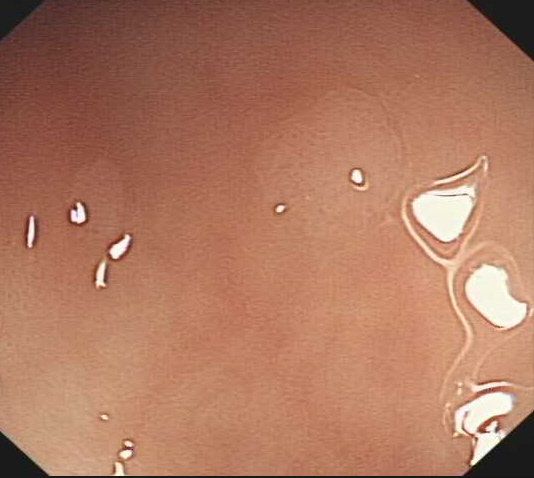others: (246, 85, 408, 250), (66, 158, 127, 247)
